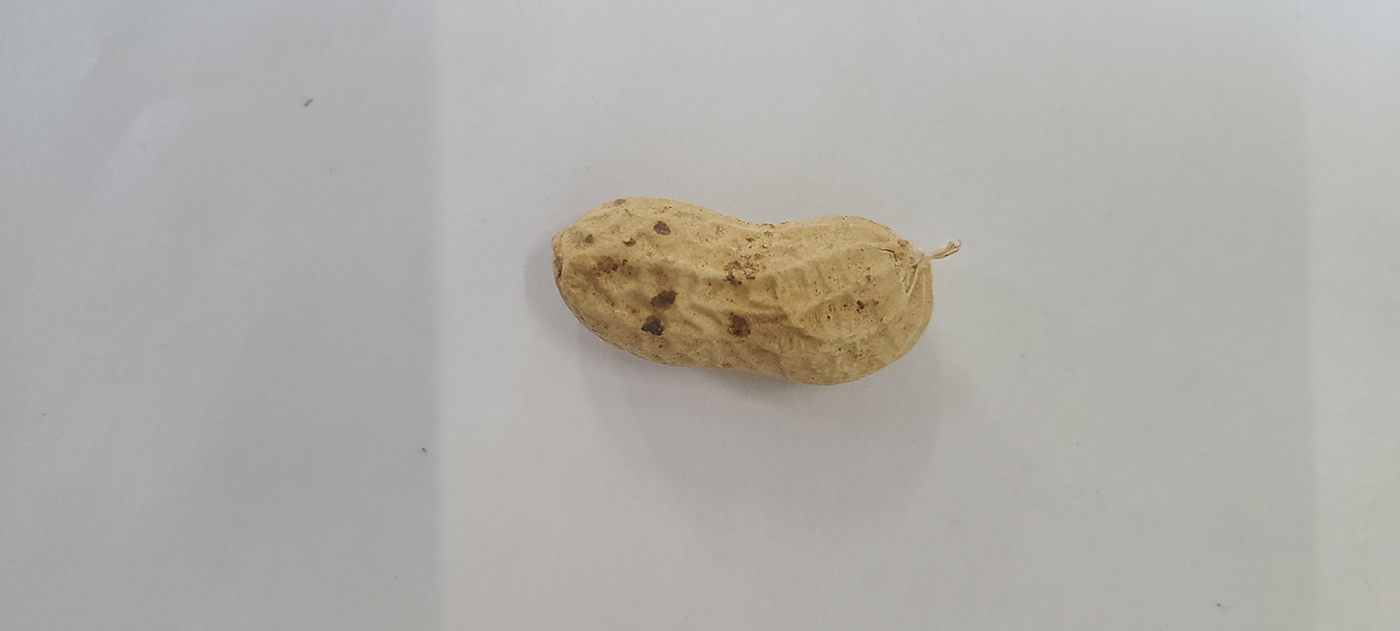h: (550, 193, 937, 388)
